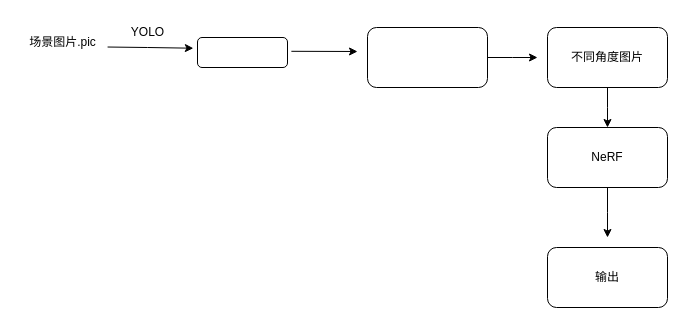
Image size: 685x325. Some labels were removed from this diagram. The box of each missing label's shape, as (x1, y1, x2, y2) in pixels:
场景标签: (196, 36, 288, 68)
路径规划: (366, 26, 488, 88)
